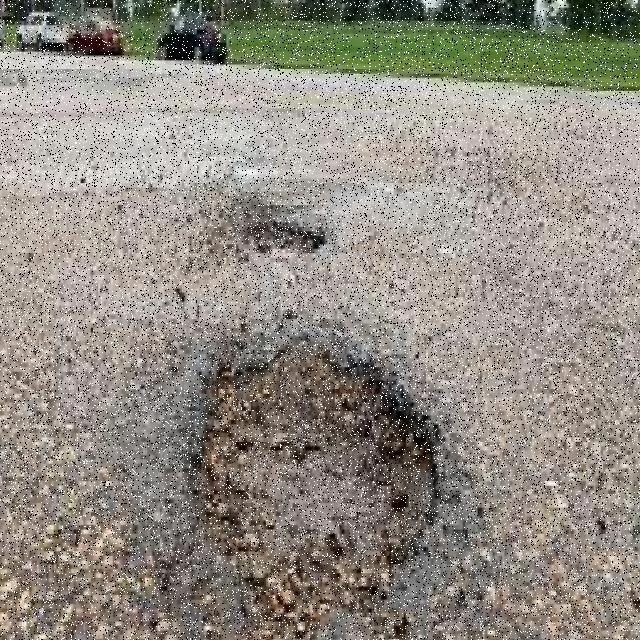pothole: (204, 332, 436, 640)
